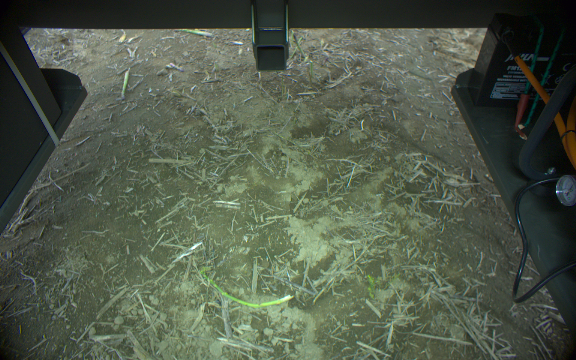aspa: (200, 266, 295, 310), (119, 66, 134, 98), (290, 30, 306, 58), (175, 29, 213, 37)
